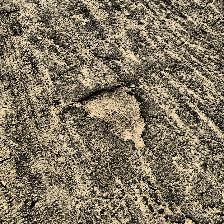pothole: (72, 83, 148, 146)
